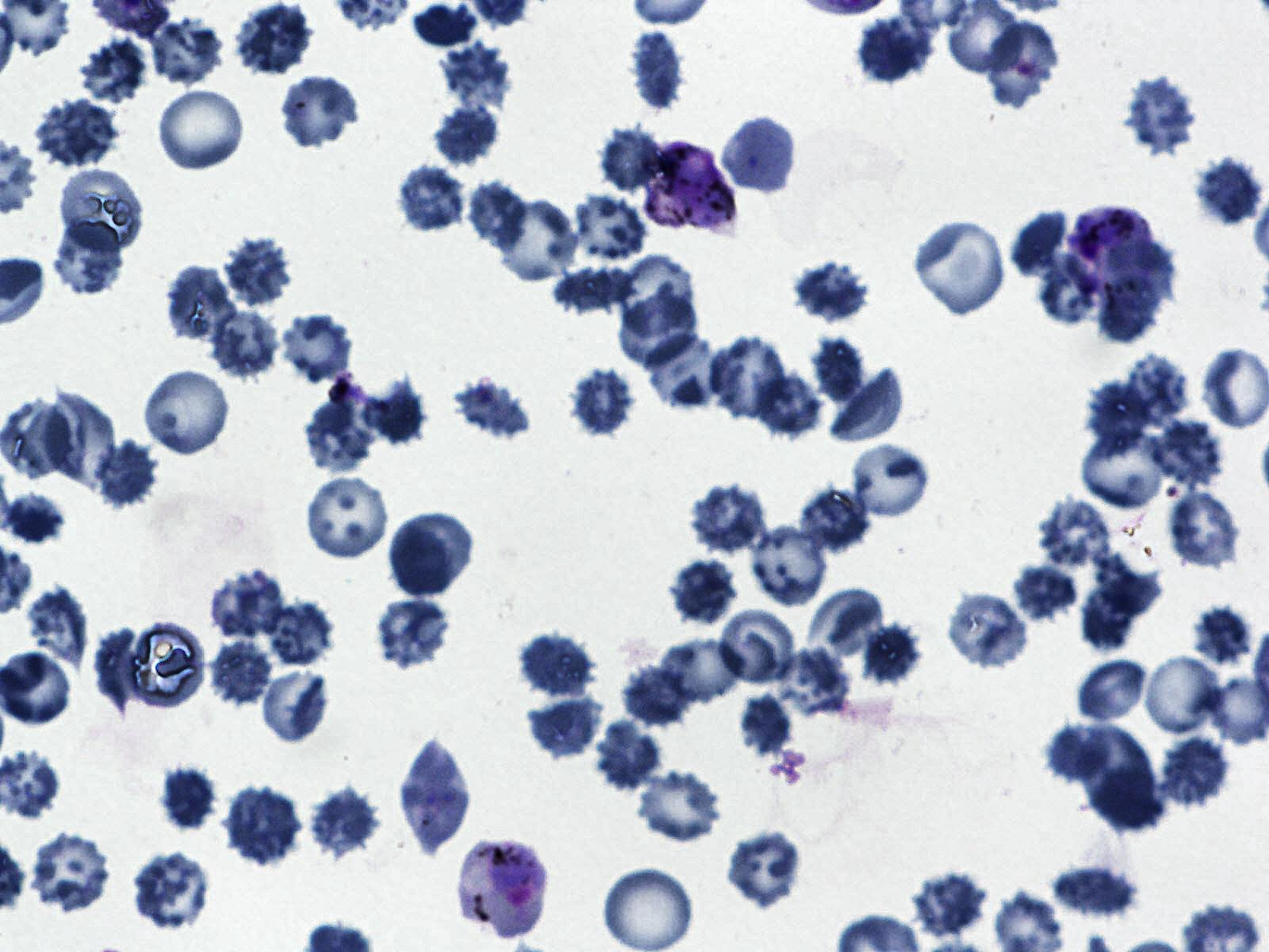Infected: (458, 837, 550, 937), (642, 140, 739, 234), (1073, 204, 1159, 294)
Uninfected: (914, 219, 1007, 317), (397, 741, 474, 852), (141, 369, 232, 457), (155, 86, 247, 173), (602, 866, 694, 952), (493, 198, 580, 283), (1075, 724, 1155, 816), (1084, 430, 1173, 512), (706, 334, 790, 420), (646, 328, 730, 414), (25, 832, 114, 913), (61, 168, 144, 254), (129, 619, 208, 708), (747, 525, 832, 607), (619, 285, 701, 370), (1144, 652, 1225, 738), (1085, 758, 1171, 839), (848, 438, 931, 521), (389, 512, 475, 592), (944, 590, 1030, 670), (304, 478, 387, 560), (130, 850, 213, 932), (43, 390, 116, 483), (162, 260, 240, 347), (1161, 488, 1243, 569), (725, 828, 807, 908), (634, 772, 726, 843), (721, 114, 799, 196), (810, 585, 888, 667), (623, 249, 698, 334), (34, 98, 121, 170), (255, 664, 332, 745), (984, 21, 1055, 108), (277, 73, 357, 150), (306, 781, 385, 858), (719, 608, 796, 687), (659, 635, 746, 704), (226, 787, 301, 867), (829, 367, 903, 447), (376, 594, 458, 666), (908, 873, 993, 942), (1160, 731, 1236, 808), (518, 628, 596, 703), (205, 632, 278, 712), (232, 2, 312, 75), (1126, 75, 1201, 152), (396, 162, 473, 236), (148, 10, 222, 87), (776, 647, 854, 720), (688, 484, 768, 555), (1044, 860, 1143, 917), (437, 34, 513, 108), (1190, 155, 1264, 230), (1078, 654, 1152, 729), (224, 234, 298, 309), (1033, 495, 1109, 568), (853, 15, 934, 83), (1092, 268, 1162, 345), (302, 401, 378, 470), (551, 259, 643, 316), (53, 218, 121, 295), (1085, 377, 1152, 455), (798, 485, 872, 555), (208, 568, 285, 635), (796, 258, 874, 324), (569, 194, 648, 259), (627, 28, 688, 112), (29, 582, 87, 670), (593, 123, 665, 193), (281, 316, 358, 381), (211, 311, 288, 376), (1109, 239, 1179, 310), (360, 374, 428, 447), (623, 664, 696, 732), (1150, 421, 1226, 486), (467, 176, 527, 258), (1037, 720, 1115, 783), (1127, 348, 1189, 425), (561, 367, 633, 433), (530, 691, 600, 758), (753, 370, 822, 437), (94, 439, 160, 509), (266, 599, 334, 666), (452, 378, 529, 437), (159, 764, 222, 835), (597, 722, 664, 788), (860, 618, 923, 688), (1008, 206, 1069, 278), (1097, 551, 1162, 618), (1037, 251, 1095, 326), (1190, 602, 1254, 669), (79, 36, 147, 98), (674, 555, 735, 624), (1079, 582, 1140, 651), (434, 101, 498, 166), (811, 334, 866, 408), (95, 626, 138, 720), (1013, 563, 1079, 623), (740, 693, 799, 759), (6, 489, 65, 543), (411, 2, 477, 48)
